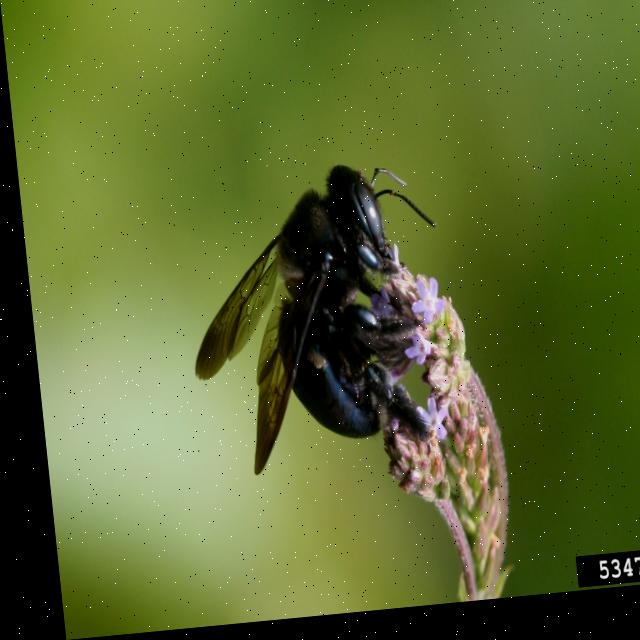Xylocopa: (161, 155, 458, 502)
